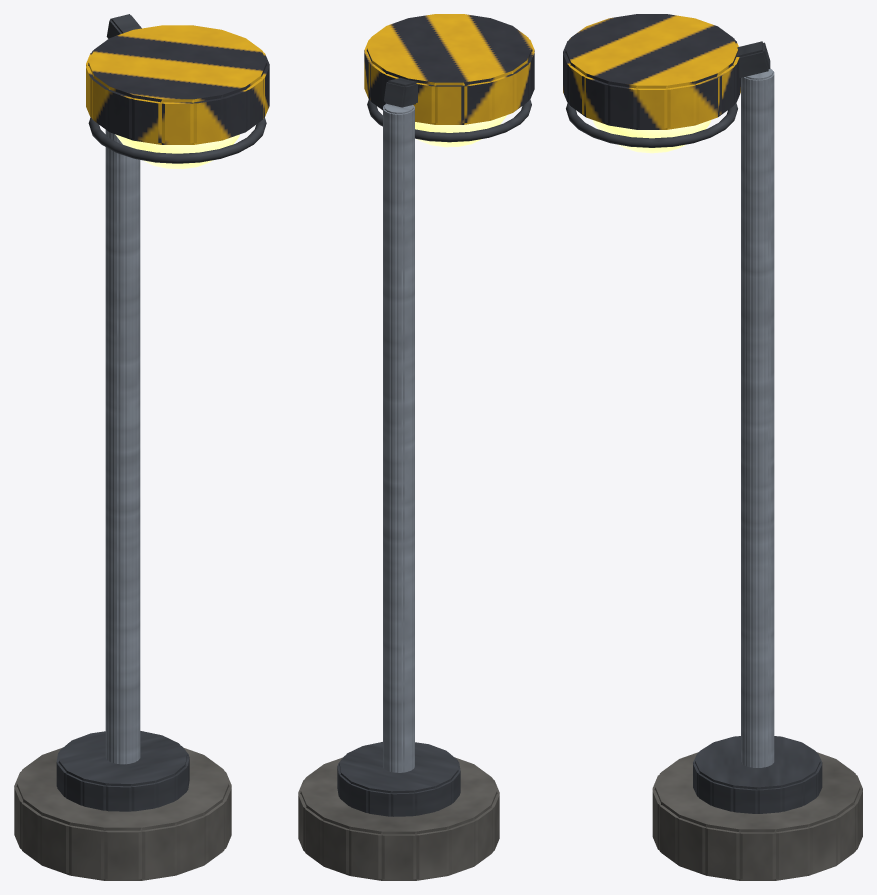
The model's file is furn_lamp.glb.
3 views of the same model, side by side, from view 1: azimuth 30°, elevation 25°; view 2: azimuth 150°, elevation 25°; view 3: azimuth 270°, elevation 25° (orthographic). The views are drawn at different scales.
Visible parts, largest first — view 1: furn_lamp; view 2: furn_lamp; view 3: furn_lamp.
Part boxes in pixels (x1,y1,x2,y2): furn_lamp: (14,14,269,880); furn_lamp: (298,14,534,880); furn_lamp: (563,14,862,880).
Bounding box in the file's own units: 0.5121 × 2.15 × 0.7372.
5 materials, 4 textured.
